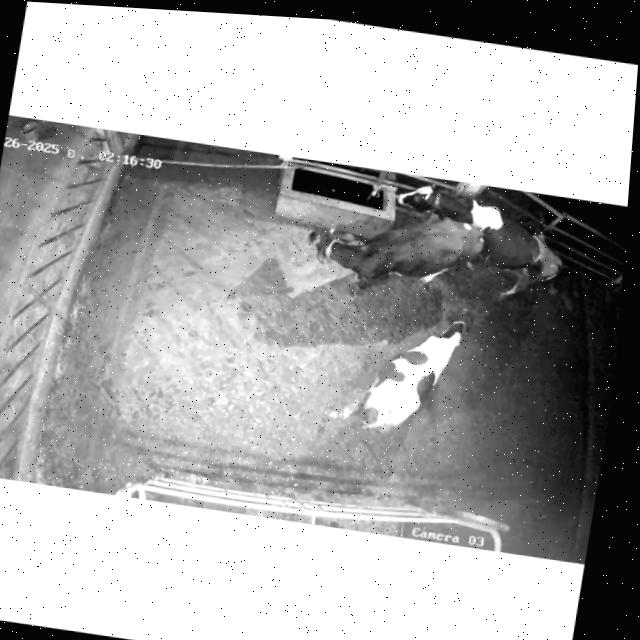stand: (397, 185, 562, 297), (333, 307, 474, 427), (308, 216, 484, 288)
